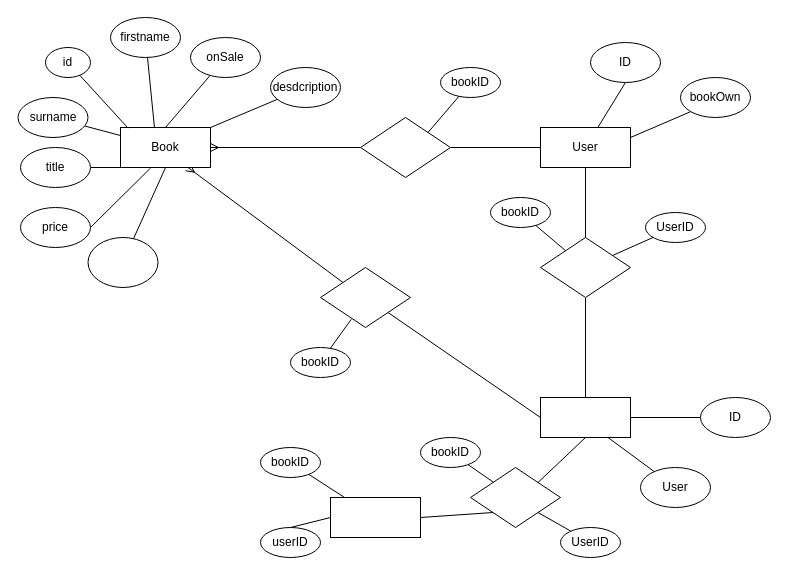
Some shapes in this 788 by 575 pixel diagram are drawn without their labels. The shapes that lost their labels are listed below. From the top down, each one's box as (x1, y1, x2, y2) in pixels, then its label:
(360, 116, 450, 178): review
(87, 236, 158, 288): publicYear
(540, 236, 630, 298): buy
(320, 266, 410, 328): add/remove
(540, 396, 630, 438): cart
(330, 496, 420, 538): Database
(470, 466, 560, 528): update
